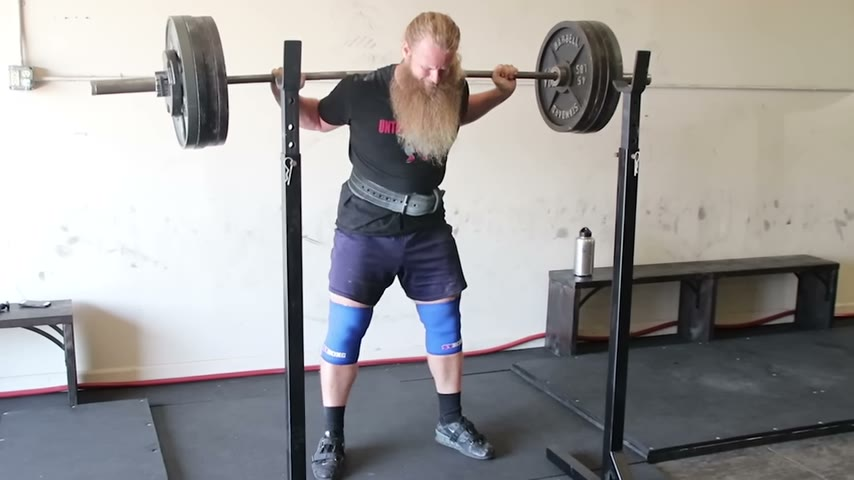barbell_plate_side: (542, 18, 657, 154)
